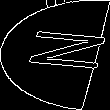N_E: (6, 31, 104, 79)
